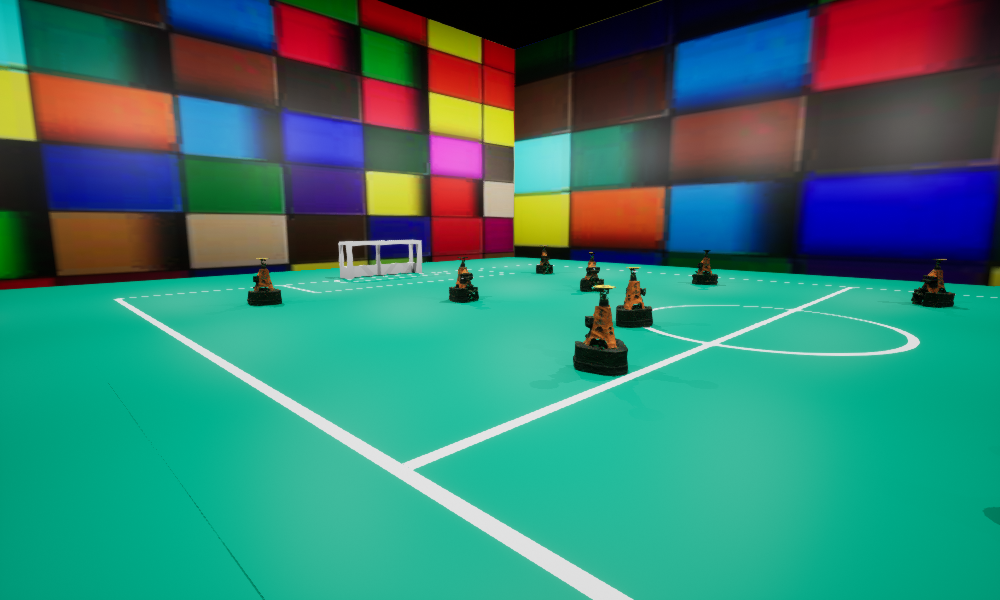0 orange robot TechUnited: (573, 285, 627, 375), (616, 267, 652, 327), (911, 259, 954, 307), (247, 258, 281, 305), (449, 257, 478, 302), (580, 252, 603, 291), (692, 250, 717, 284), (536, 245, 552, 273)
